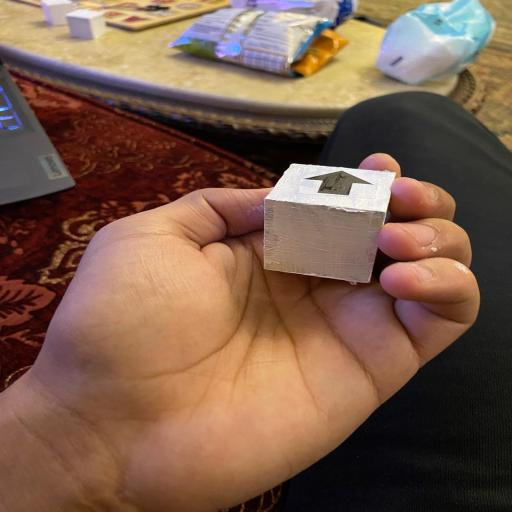Up: (258, 163, 395, 284)
